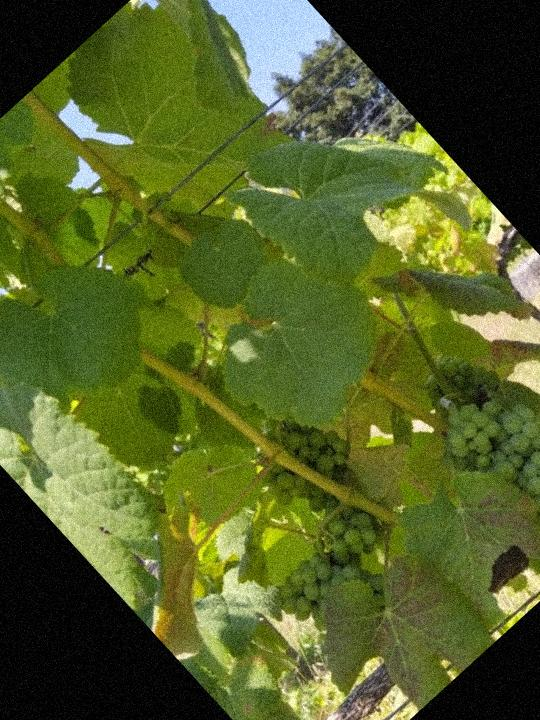grape: (241, 402, 415, 578), (426, 365, 540, 591), (258, 519, 403, 663)
